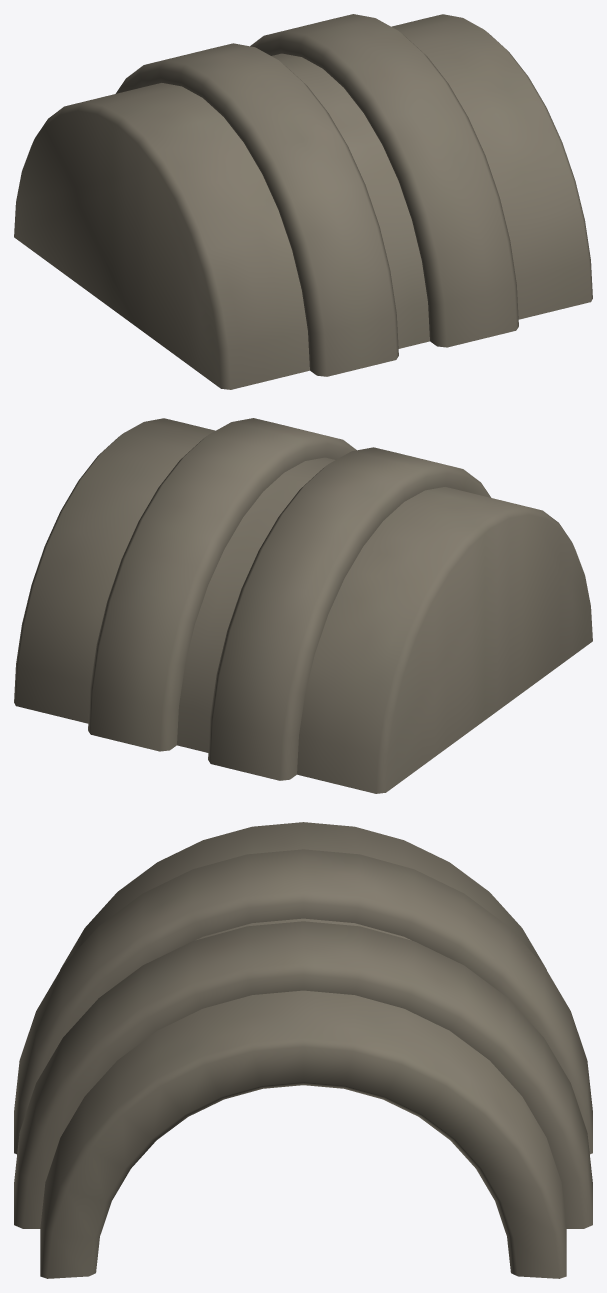
File: Hangar.fbx
3 views of the same model, one above another, from view 1: azimuth 30°, elevation 25°; view 2: azimuth 150°, elevation 25°; view 3: azimuth 270°, elevation 25° (orthographic). The views are drawn at different scales.
Visible parts, largest first — view 1: Cylinder.002; view 2: Cylinder.002; view 3: Cylinder.002.
Part boxes in pixels (x1,y1,x2,y2): Cylinder.002: (14, 14, 592, 389); Cylinder.002: (14, 418, 592, 793); Cylinder.002: (14, 822, 592, 1278).
Bounding box in the file's own units: 33.72 × 19.14 × 37.09.
1 material, 1 textured.
